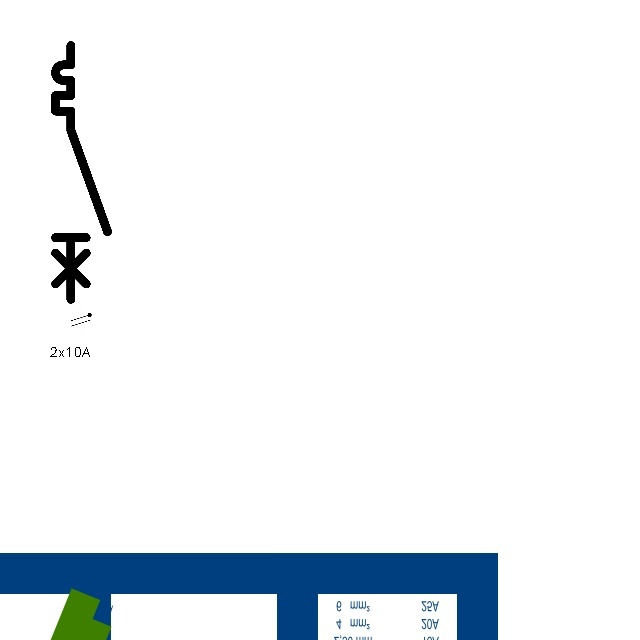interruptor_termomagnetico: (49, 39, 114, 305)
